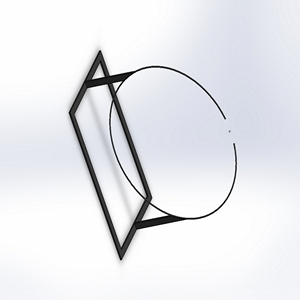circle: (66, 47, 240, 262)
